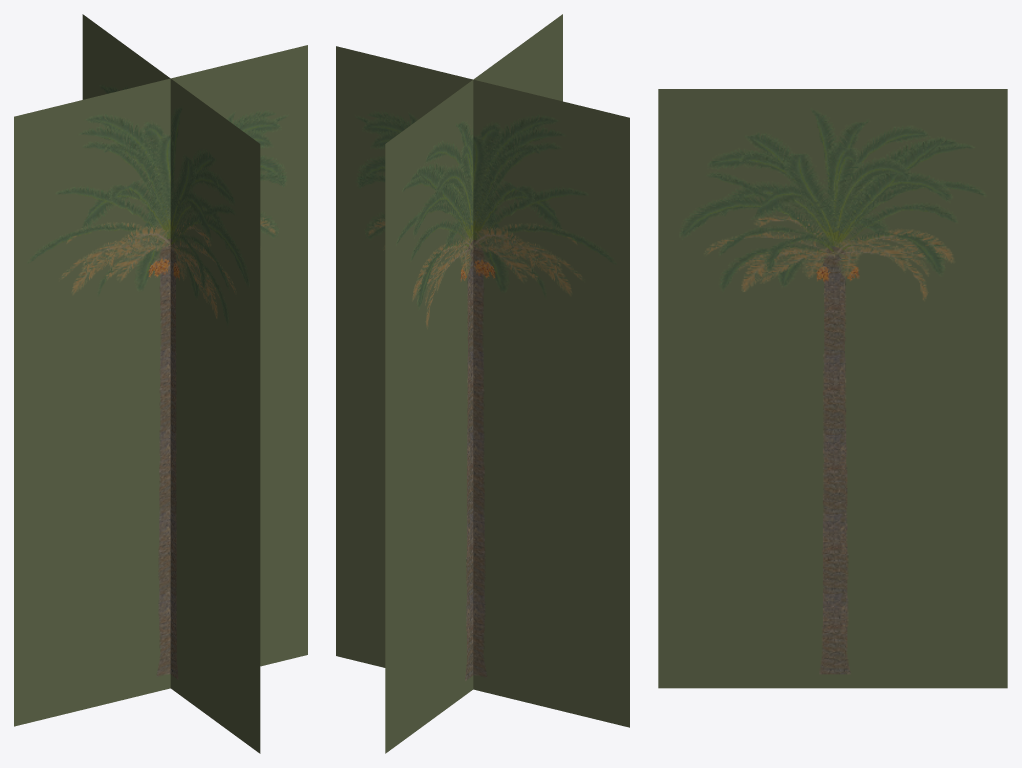
File: PhoenixDactylifera.glb
The picture shows the model from 3 angles, left to right: view 1: azimuth 30°, elevation 25°; view 2: azimuth 150°, elevation 25°; view 3: azimuth 270°, elevation 25°; orthographic projection.
Parts seen in each view (by area): view 1: mesh__mat_billboard_20; view 2: mesh__mat_billboard_20; view 3: mesh__mat_billboard_20.
Part boxes in pixels (box(x1,y1,x2,y2)): mesh__mat_billboard_20: box(14, 14, 307, 753); mesh__mat_billboard_20: box(336, 14, 629, 753); mesh__mat_billboard_20: box(658, 89, 1007, 688).
Size of the model in its own units: 11.61 by 23.03 by 12.16.
Materials: 1 (1 with a texture image).
